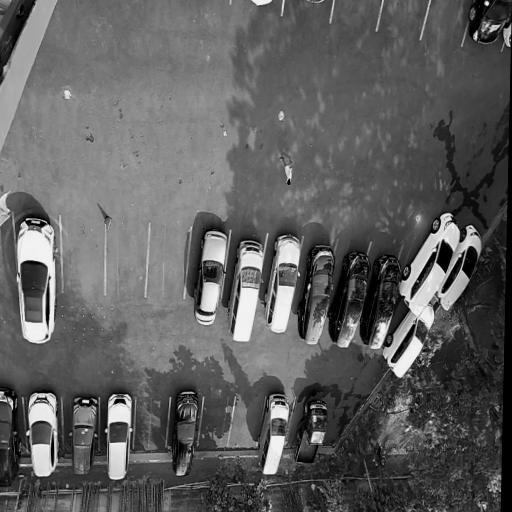Car: (397, 209, 464, 319), (13, 214, 59, 348), (323, 249, 376, 356), (292, 243, 340, 353), (433, 221, 486, 317), (221, 239, 268, 346), (358, 253, 406, 357), (259, 233, 304, 340), (380, 304, 437, 385), (189, 226, 229, 334), (254, 390, 294, 480), (26, 387, 62, 481), (290, 399, 329, 474), (169, 391, 201, 480), (104, 393, 135, 481), (0, 385, 25, 489), (68, 393, 98, 479), (461, 0, 512, 49)
Space Available: (61, 216, 105, 297), (146, 224, 190, 300), (106, 223, 149, 299), (421, 0, 474, 47), (377, 0, 431, 42), (228, 398, 265, 448), (198, 396, 235, 446), (134, 399, 169, 449), (330, 0, 383, 32), (0, 214, 17, 291)
